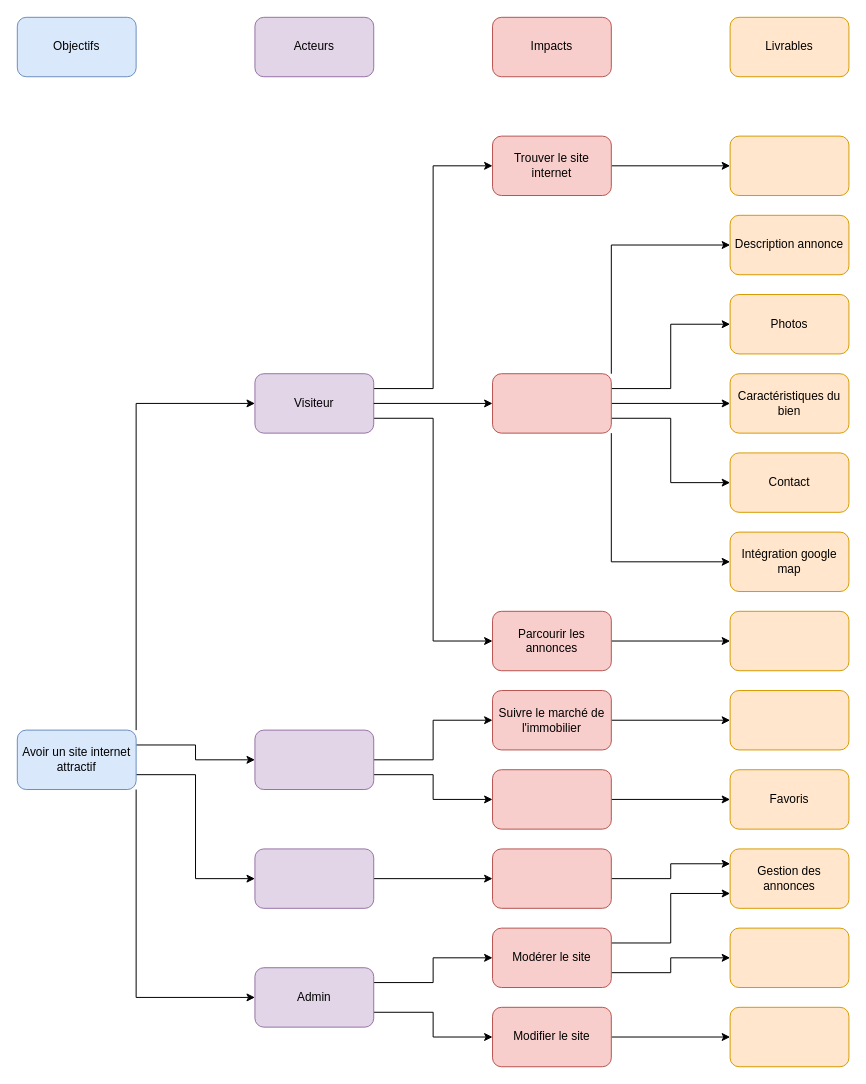
Image size: 866x1084. Some labels were removed from this diagram. The shapes that lost their labels are listed below. From the top down, each one's centre as x and y in pixels, then its label:
At pixel 789 165: "Référencement".
At pixel 551 403: "S'informer sur une annonce".
At pixel 789 640: "Listing des annonces".
At pixel 789 720: "Reporting".
At pixel 314 759: "Acheteur".
At pixel 551 799: "Sauvegarder annonces".
At pixel 314 878: "Vendeur".
At pixel 551 878: "Ajouter des annonces".
At pixel 789 957: "Gestion des comptes".
At pixel 789 1036: "Back-office".
